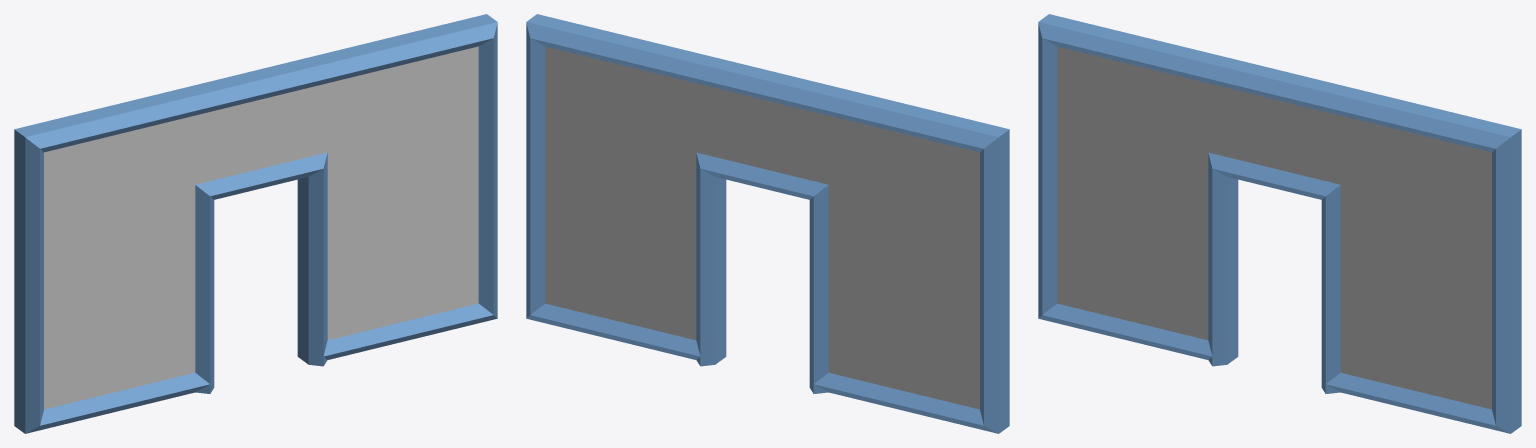
The model's file is LPWallDoor1.fbx.
3 views of the same model, side by side, from view 1: azimuth 30°, elevation 25°; view 2: azimuth 150°, elevation 25°; view 3: azimuth 330°, elevation 25° (orthographic).
Parts seen in each view (by area): view 1: Plane; view 2: Plane; view 3: Plane.
Boxes of the visible parts, x1=… form: Plane: x1=14, y1=14, x2=497, y2=433; Plane: x1=526, y1=14, x2=1009, y2=433; Plane: x1=1038, y1=14, x2=1521, y2=433.
Bounding box in the file's own units: 500 × 40 × 300.
